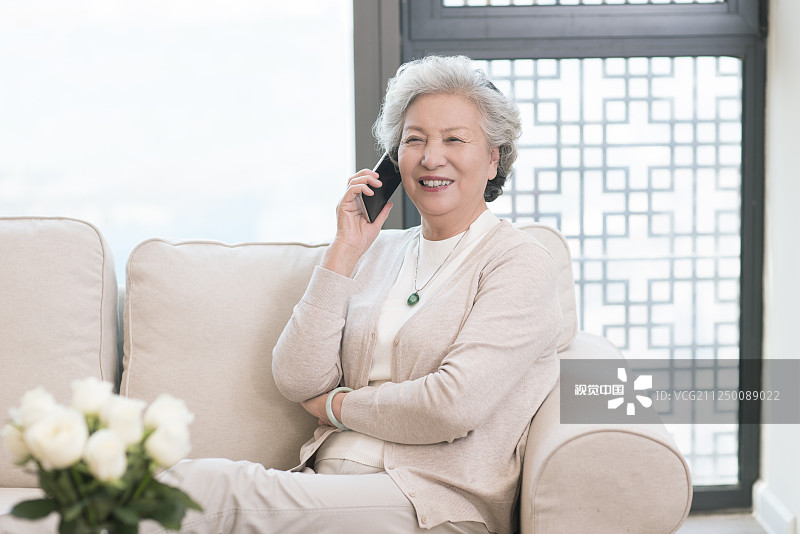calling: (318, 137, 415, 261)
